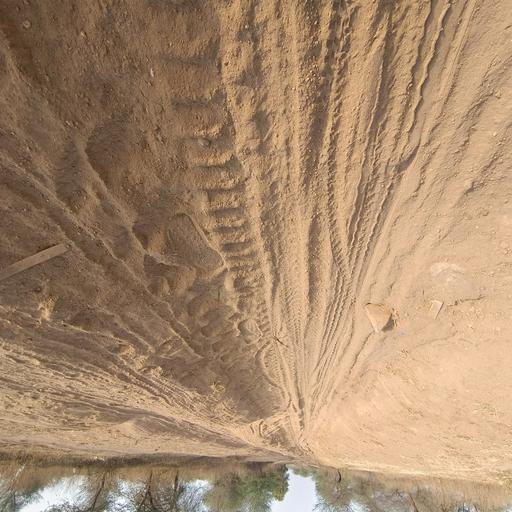vehicle_track: (141, 0, 481, 447)
